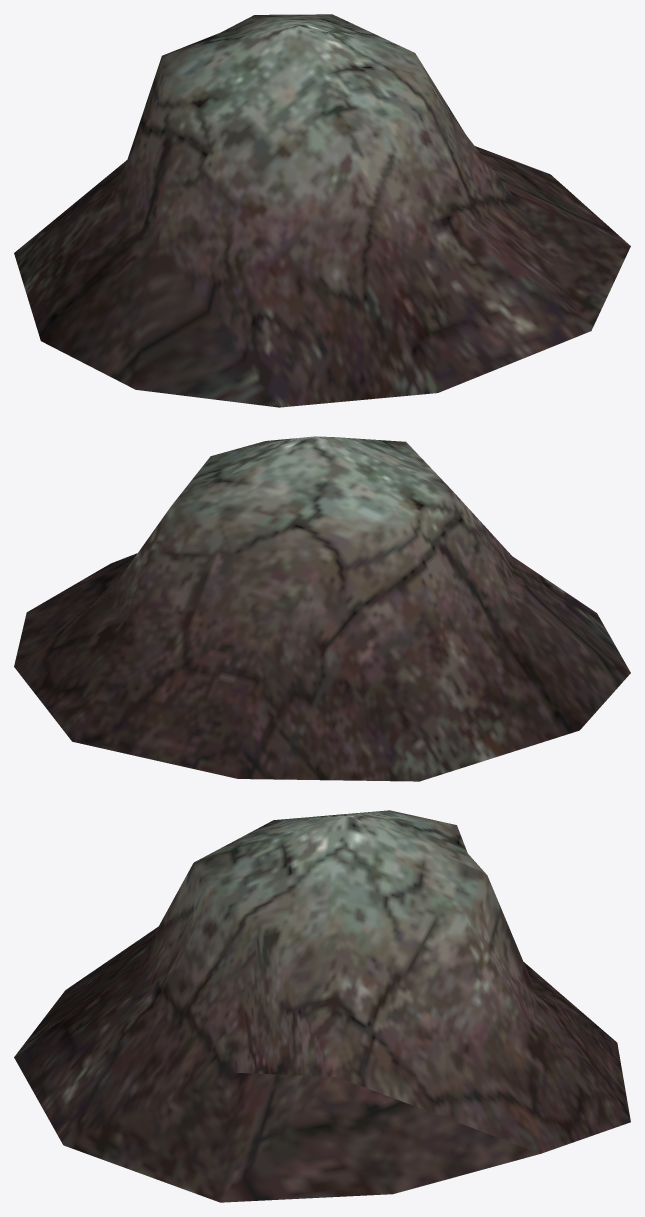
File: robot_lamp_growing01_flat.dae
The picture shows the model from 3 angles, top to bottom: view 1: azimuth 30°, elevation 25°; view 2: azimuth 150°, elevation 25°; view 3: azimuth 270°, elevation 25°; orthographic projection. The views are drawn at different scales.
Parts seen in each view (by area): view 1: robot_lamp_growing01_flat; view 2: robot_lamp_growing01_flat; view 3: robot_lamp_growing01_flat.
Boxes of the visible parts, <box> form: robot_lamp_growing01_flat: <box>14,14,630,407</box>; robot_lamp_growing01_flat: <box>14,436,630,781</box>; robot_lamp_growing01_flat: <box>14,810,630,1202</box>.
Size of the model in its own units: 0.1886 by 0.097 by 0.1808.
